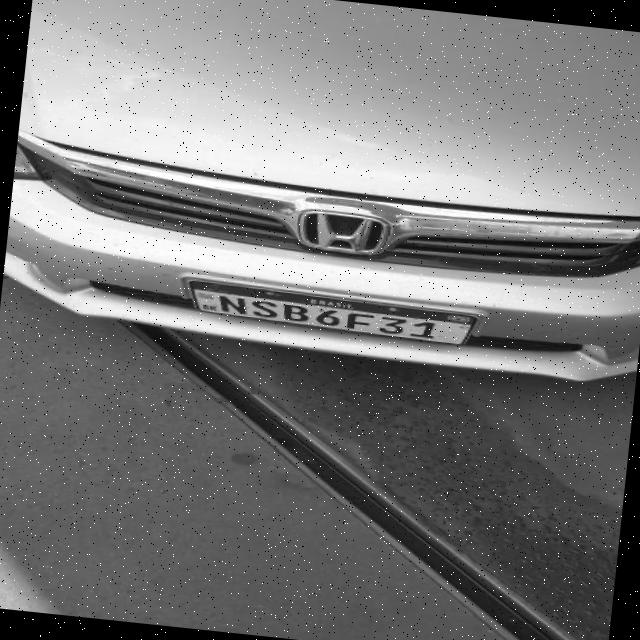placa_mercosul: (184, 277, 479, 345)
